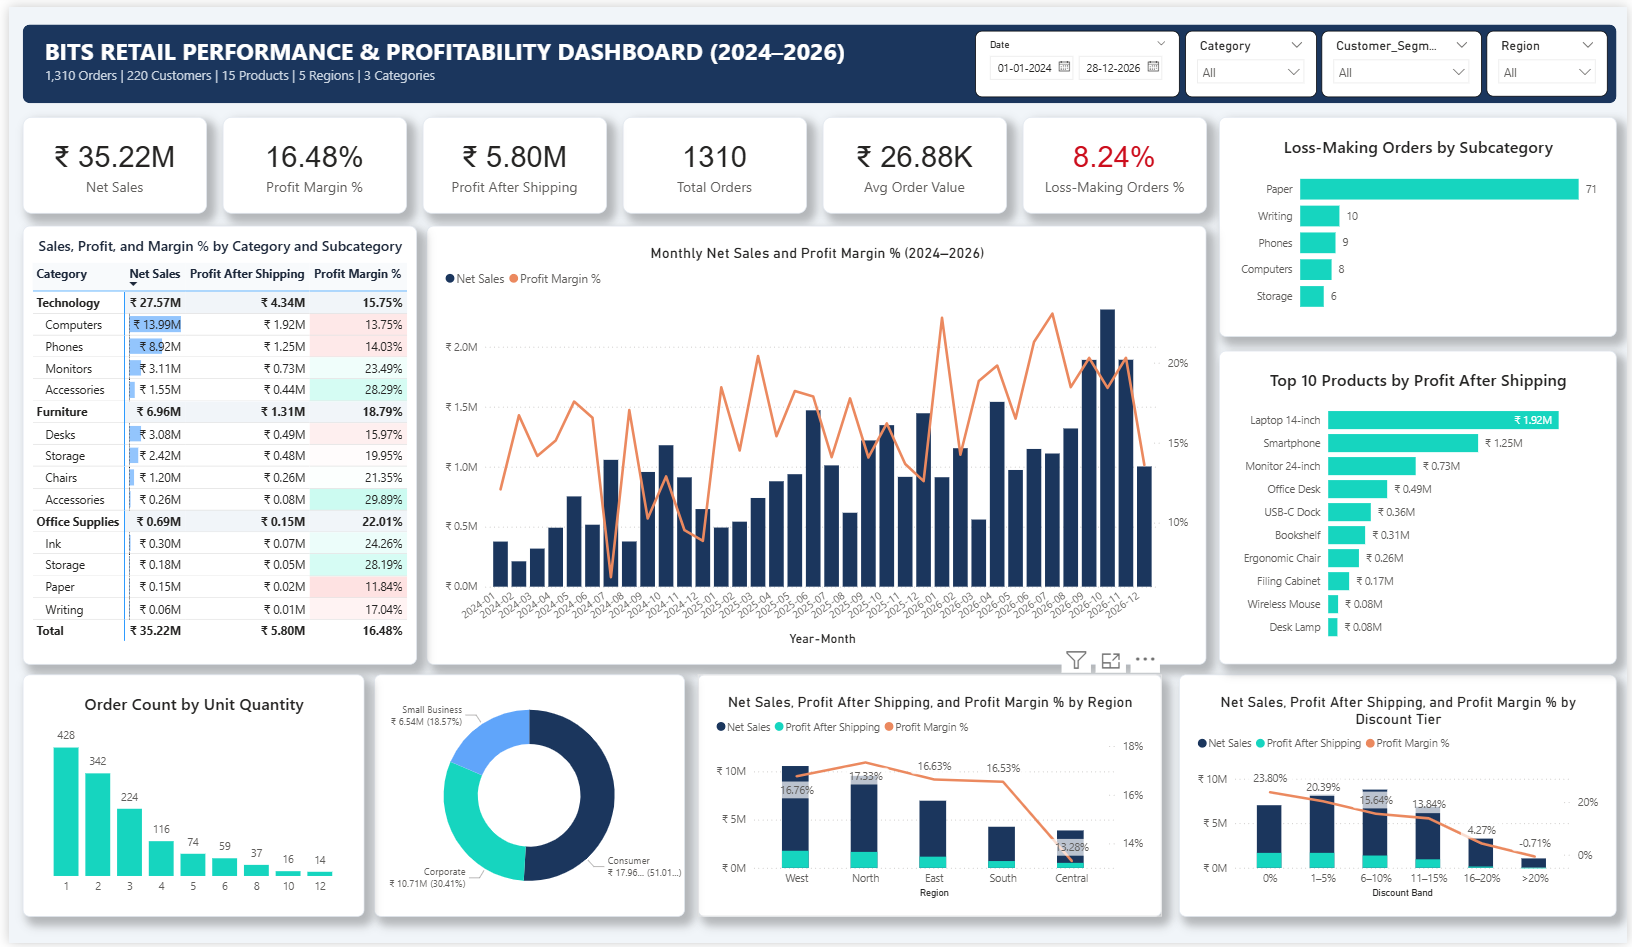

Layout of this report page (visuals, bound fields, positions):
{"tool":"powerbi","page":{"name":"Page 2","canvas":[1850,1070],"ordinal":1},"visuals":[{"type":"card","fields":{"Values":["retail_sales.Net Sales"]},"box":[15.7,126.2,210,110],"z":0},{"type":"card","fields":{"Values":["retail_sales.Profit Margin %"]},"box":[244.3,126.2,210,110],"z":1000},{"type":"card","fields":{"Values":["retail_sales.Total Orders"]},"box":[701.4,126.2,210,110],"z":2000},{"type":"card","fields":{"Values":["retail_sales.Profit After Shipping"]},"box":[472.9,126.2,210,110],"z":3000},{"type":"shape","box":[15.7,20,1821.4,90],"z":4000},{"type":"textbox","box":[35.7,27.1,946.3,74.3],"z":5000},{"type":"slicer","fields":{"Values":["Date.Date"]},"box":[1104.4,26.9,233.8,76.2],"z":6000},{"type":"slicer","fields":{"Values":["retail_sales.Region"]},"box":[1688.3,27.1,138.6,75],"z":7000},{"type":"slicer","fields":{"Values":["retail_sales.Category"]},"box":[1343.7,26.9,150,76.2],"z":8000},{"type":"slicer","fields":{"Values":["retail_sales.Customer_Segment"]},"box":[1499.7,27.1,182.9,75.7],"z":9000},{"type":"card","fields":{"Values":["retail_sales.Avg Order Value"]},"box":[930,126.2,210,110],"z":10000},{"type":"card","fields":{"Values":["retail_sales.Loss-Making Orders %"]},"box":[1158.6,126.2,210,110],"z":11000},{"type":"barChart","fields":{"Category":["retail_sales.Subcategory"],"Y":["retail_sales.Loss-Making Orders"]},"box":[1382.9,125.7,454.3,251.4],"z":12000},{"type":"lineClusteredColumnComboChart","title":"Monthly Net Sales and Profit Margin % (2024–2026)","fields":{"Category":["Date.Year-Month"],"Y":["retail_sales.Net Sales"],"Y2":["retail_sales.Profit Margin %"]},"box":[477.1,250,891.4,501.4],"z":13000},{"type":"lineClusteredColumnComboChart","title":"Net Sales, Profit After Shipping, and Profit Margin % by Region","fields":{"Category":["retail_sales.Region"],"Y":["retail_sales.Net Sales","retail_sales.Profit After Shipping"],"Y2":["retail_sales.Profit Margin %"]},"box":[787.1,762.9,530,277.1],"z":14000},{"type":"lineClusteredColumnComboChart","title":"Net Sales, Profit After Shipping, and Profit Margin % by Discount Tier","fields":{"Category":["retail_sales.Discount Band"],"Y":["retail_sales.Net Sales","retail_sales.Profit After Shipping"],"Y2":["retail_sales.Profit Margin %"]},"box":[1337.1,762.9,500,277.1],"z":15000},{"type":"pivotTable","title":"Sales, Profit, and Margin % by Category and Subcategory","fields":{"Rows":["retail_sales.Category","retail_sales.Subcategory"],"Values":["retail_sales.Net Sales","retail_sales.Profit After Shipping","retail_sales.Profit Margin %"]},"box":[15,250,450,501.7],"z":16000},{"type":"donutChart","fields":{"Category":["retail_sales.Customer_Segment"],"Y":["retail_sales.Net Sales"]},"box":[416.7,763.3,355,276.7],"z":17000},{"type":"barChart","title":"Top 10 Products by Profit After Shipping","fields":{"Category":["retail_sales.Product_Name"],"Y":["retail_sales.Profit After Shipping"]},"box":[1382.9,392.9,454.3,358.6],"z":18000},{"type":"clusteredColumnChart","title":"Order Count by Unit Quantity","fields":{"Category":["retail_sales.Quantity"],"Y":["retail_sales.Total Orders"]},"box":[15,763.3,390,276.7],"z":19000}]}

Visuals, with their boxes in screenshot pixels (x1, y1, x2, y2), scaled from the page's 1850x1070 canvas onto the 1632x947 screenshot:
card - retail_sales.Net Sales: pyautogui.locateOnScreen(14, 112, 199, 209)
card - retail_sales.Profit Margin %: pyautogui.locateOnScreen(216, 112, 401, 209)
card - retail_sales.Total Orders: pyautogui.locateOnScreen(619, 112, 804, 209)
card - retail_sales.Profit After Shipping: pyautogui.locateOnScreen(417, 112, 602, 209)
shape: pyautogui.locateOnScreen(14, 18, 1621, 97)
textbox: pyautogui.locateOnScreen(31, 24, 866, 90)
slicer - Date.Date: pyautogui.locateOnScreen(974, 24, 1181, 91)
slicer - retail_sales.Region: pyautogui.locateOnScreen(1489, 24, 1612, 90)
slicer - retail_sales.Category: pyautogui.locateOnScreen(1185, 24, 1318, 91)
slicer - retail_sales.Customer_Segment: pyautogui.locateOnScreen(1323, 24, 1484, 91)
card - retail_sales.Avg Order Value: pyautogui.locateOnScreen(820, 112, 1006, 209)
card - retail_sales.Loss-Making Orders %: pyautogui.locateOnScreen(1022, 112, 1207, 209)
barChart - retail_sales.Subcategory x retail_sales.Loss-Making Orders: pyautogui.locateOnScreen(1220, 111, 1621, 334)
"Monthly Net Sales and Profit Margin % (2024–2026)" lineClusteredColumnComboChart: pyautogui.locateOnScreen(421, 221, 1207, 665)
"Net Sales, Profit After Shipping, and Profit Margin % by Region" lineClusteredColumnComboChart: pyautogui.locateOnScreen(694, 675, 1162, 920)
"Net Sales, Profit After Shipping, and Profit Margin % by Discount Tier" lineClusteredColumnComboChart: pyautogui.locateOnScreen(1180, 675, 1621, 920)
"Sales, Profit, and Margin % by Category and Subcategory" pivotTable: pyautogui.locateOnScreen(13, 221, 410, 665)
donutChart - retail_sales.Customer_Segment x retail_sales.Net Sales: pyautogui.locateOnScreen(368, 676, 681, 920)
"Top 10 Products by Profit After Shipping" barChart: pyautogui.locateOnScreen(1220, 348, 1621, 665)
"Order Count by Unit Quantity" clusteredColumnChart: pyautogui.locateOnScreen(13, 676, 357, 920)
